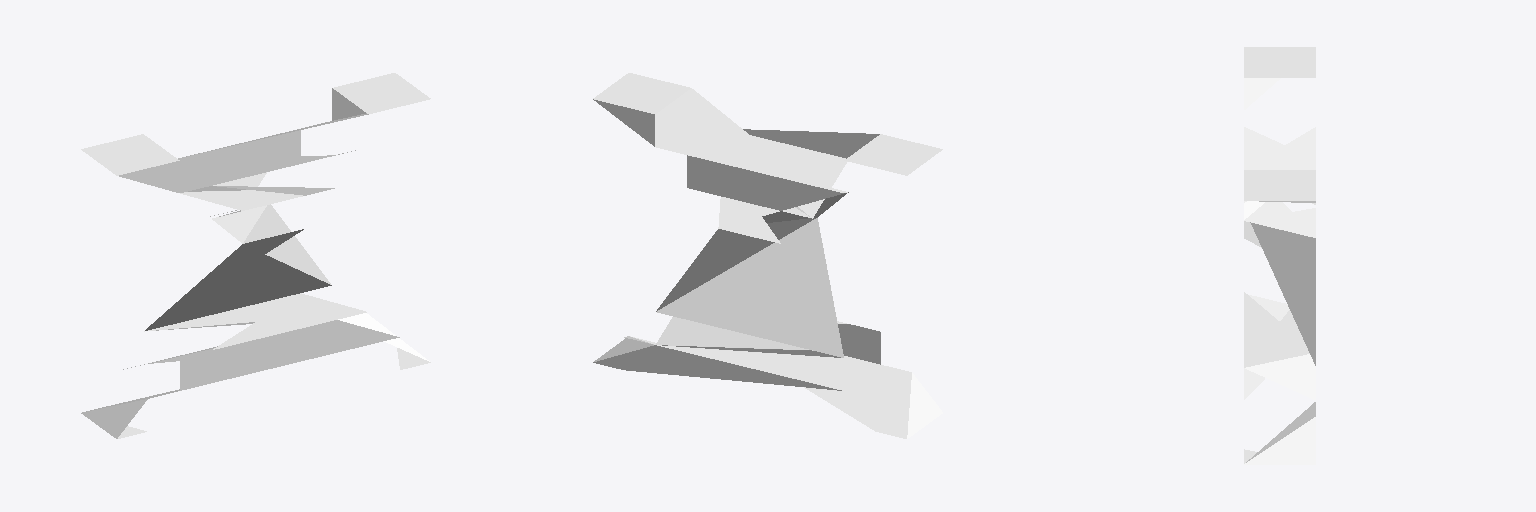
Rendered from missing.obj.
3 views of the same model, side by side, from view 1: azimuth 30°, elevation 25°; view 2: azimuth 150°, elevation 25°; view 3: azimuth 270°, elevation 25° (orthographic).
Bounding box in the file's own units: 10 × 8 × 2.